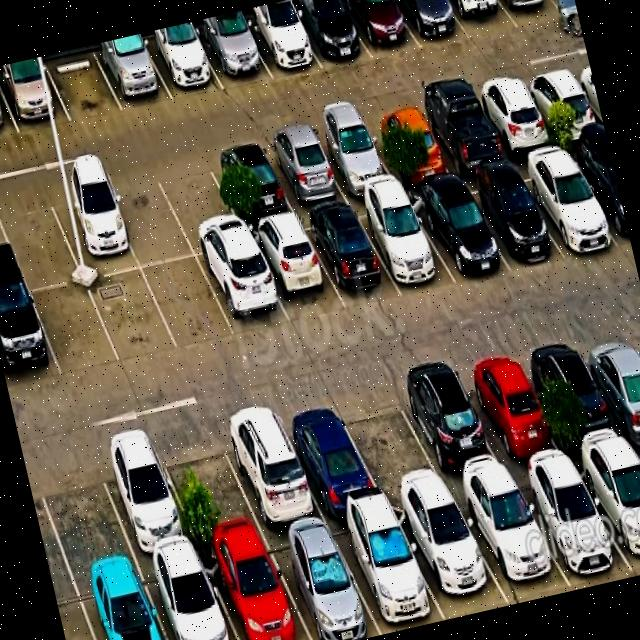empty: (332, 380, 448, 502), (29, 445, 135, 578), (152, 421, 263, 548), (153, 155, 247, 256), (103, 169, 194, 267), (87, 268, 178, 364), (142, 257, 235, 350), (31, 282, 120, 377), (0, 192, 82, 291), (43, 48, 123, 121)
occupied: (390, 363, 510, 491), (327, 506, 444, 634), (512, 464, 633, 587), (452, 478, 571, 603), (391, 494, 509, 619), (214, 401, 325, 533), (453, 349, 568, 476), (90, 432, 198, 561), (262, 523, 381, 640), (273, 394, 384, 518), (523, 334, 631, 459), (199, 536, 310, 640), (512, 151, 619, 255), (405, 183, 510, 284), (246, 218, 345, 325), (457, 170, 562, 270), (300, 205, 400, 308), (352, 195, 456, 292), (45, 180, 140, 279), (138, 550, 237, 640), (573, 446, 640, 575), (197, 246, 290, 336), (574, 324, 640, 445), (414, 93, 508, 176), (205, 142, 296, 227), (260, 131, 348, 212), (362, 106, 453, 183), (74, 564, 166, 640), (309, 119, 397, 198), (565, 142, 631, 246), (471, 79, 558, 157), (520, 67, 605, 143), (0, 288, 61, 391), (93, 39, 173, 111), (141, 30, 223, 100), (289, 0, 371, 68), (240, 10, 321, 77), (0, 59, 70, 133), (195, 20, 271, 88), (341, 0, 420, 59), (394, 0, 469, 48), (445, 0, 518, 41), (499, 0, 565, 27)
